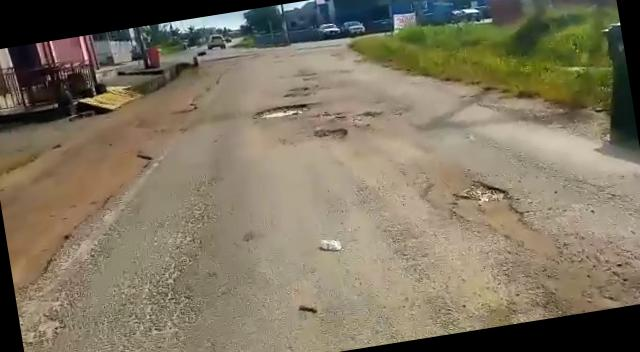pothole: (442, 170, 561, 276), (250, 99, 310, 120), (310, 124, 350, 142)
